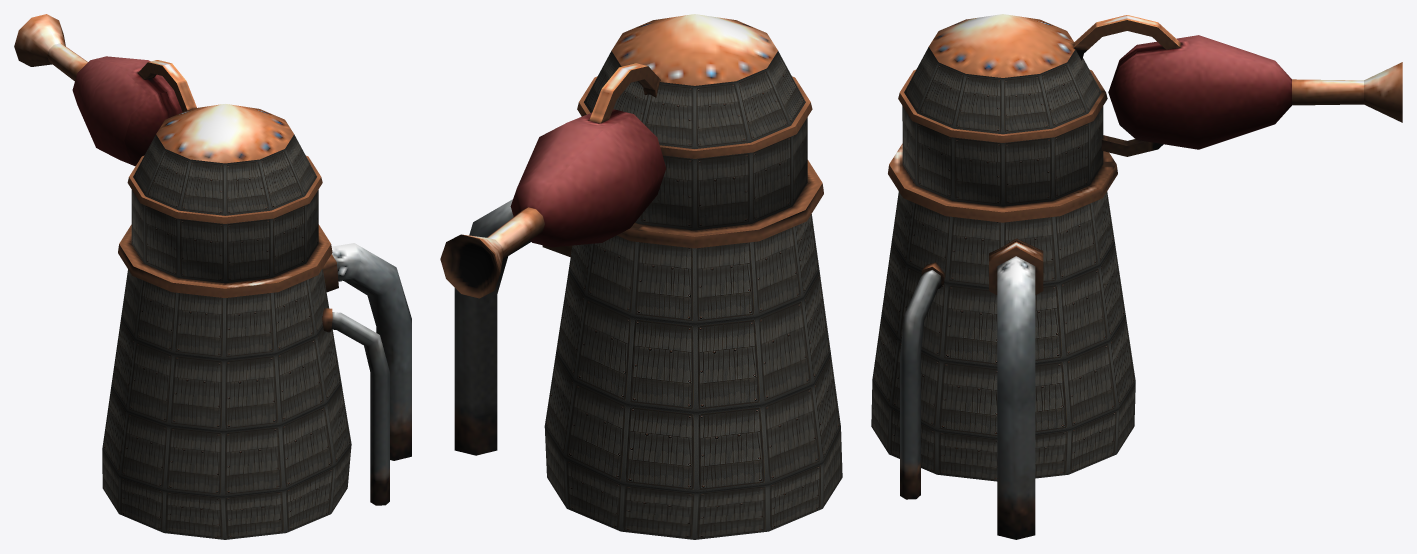
The model's file is turretLaser.fbx.
The picture shows the model from 3 angles, left to right: view 1: azimuth 30°, elevation 25°; view 2: azimuth 150°, elevation 25°; view 3: azimuth 270°, elevation 25°; orthographic projection. The views are drawn at different scales.
Parts seen in each view (by area): view 1: turretLaserBottom, turretLaserTop; view 2: turretLaserBottom, turretLaserTop; view 3: turretLaserBottom, turretLaserTop.
Boxes of the visible parts, x1,y1,x2,y2 form: turretLaserBottom: [102, 224, 411, 539]; turretLaserTop: [14, 14, 322, 283]; turretLaserBottom: [454, 160, 842, 539]; turretLaserTop: [440, 14, 812, 298]; turretLaserBottom: [871, 143, 1135, 539]; turretLaserTop: [898, 14, 1402, 206].
Size of the model in its own units: 5.63 by 7.13 by 8.08.
1 material, 1 textured.
